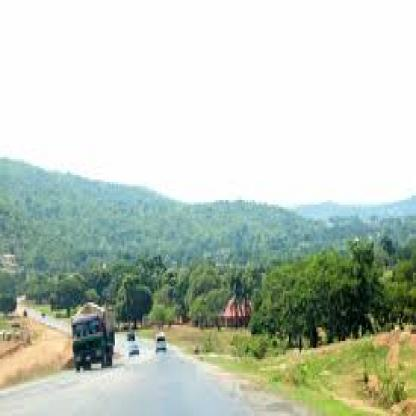car: (46, 297, 122, 372), (148, 330, 170, 353), (126, 338, 140, 358)
